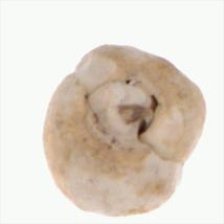L3: (80, 79, 158, 148)
L4: (43, 43, 206, 217)
